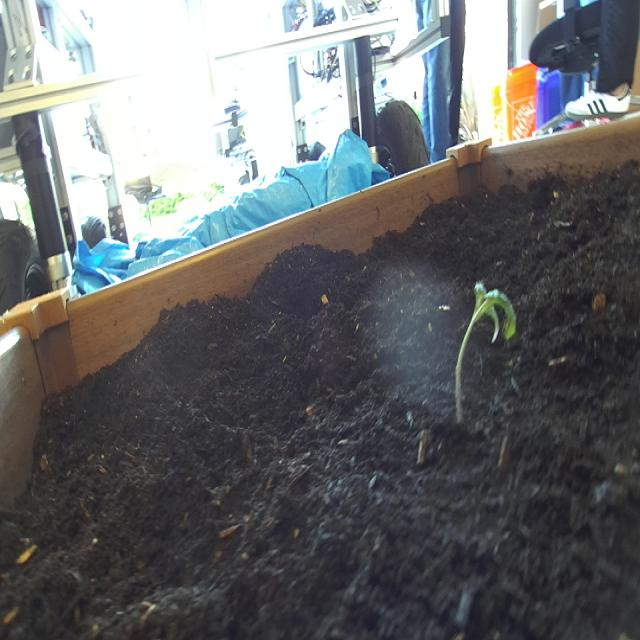Healthy: (449, 274, 521, 436)
